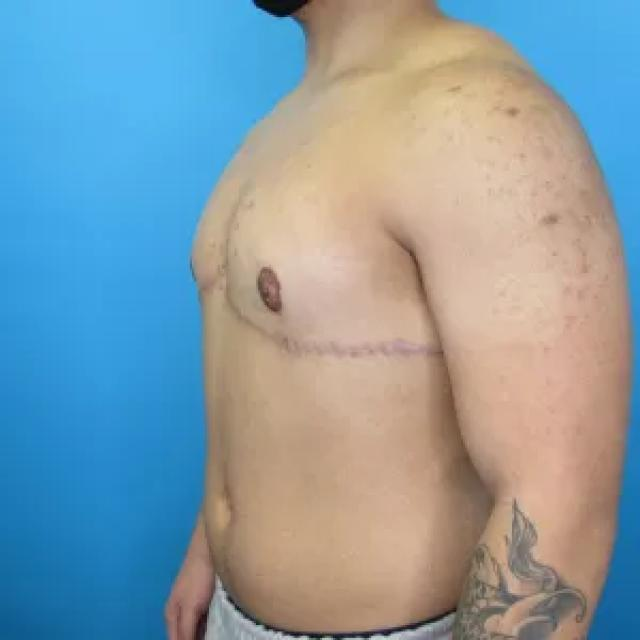Seno herido: (219, 192, 463, 368), (179, 183, 215, 305)
